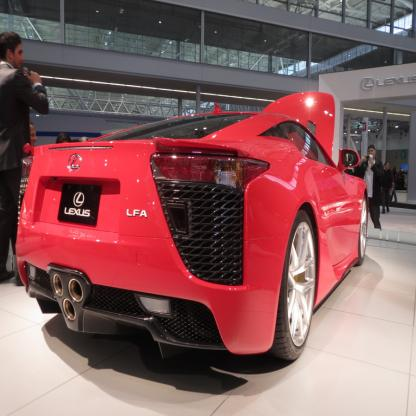Car: (17, 93, 370, 362)
